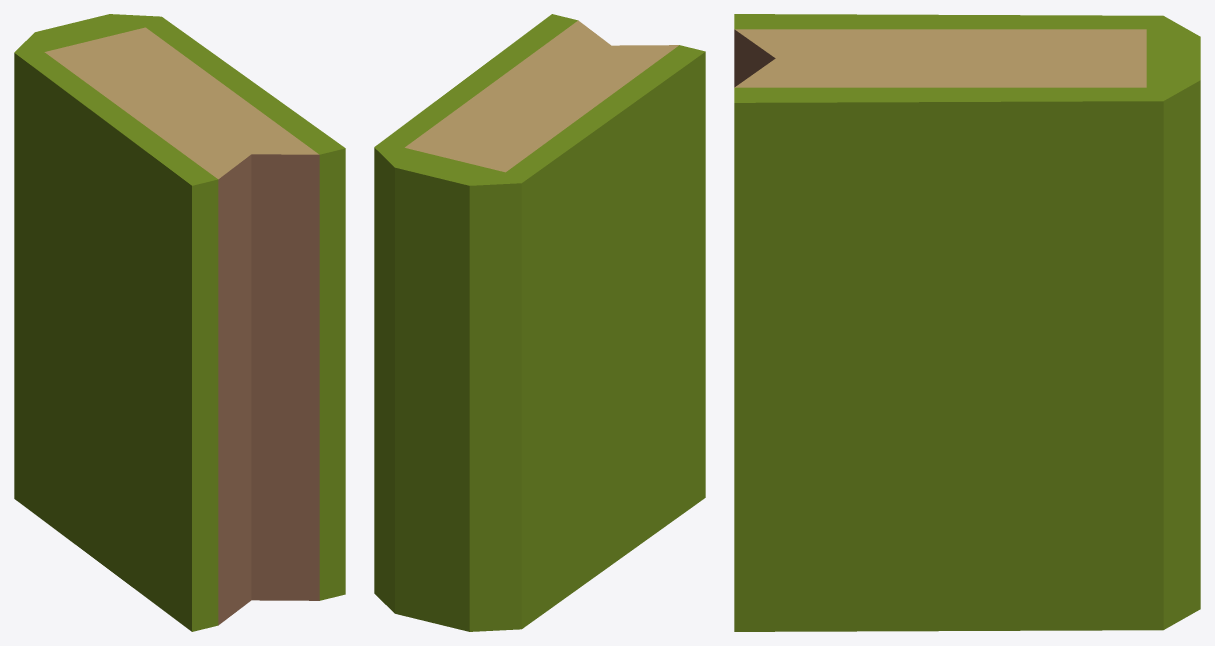
The model's file is TB_Prop_Book_H.FBX.
The picture shows the model from 3 angles, left to right: view 1: azimuth 30°, elevation 25°; view 2: azimuth 150°, elevation 25°; view 3: azimuth 270°, elevation 25°; orthographic projection. The views are drawn at different scales.
Visible parts, largest first — view 1: TB_Prop_Book_H; view 2: TB_Prop_Book_H; view 3: TB_Prop_Book_H.
Part boxes in pixels (x1=…): TB_Prop_Book_H: x1=14, y1=14, x2=345, y2=631; TB_Prop_Book_H: x1=374, y1=14, x2=705, y2=631; TB_Prop_Book_H: x1=734, y1=14, x2=1200, y2=631.
Bounding box in the file's own units: 0.182 × 0.5049 × 0.4035.
